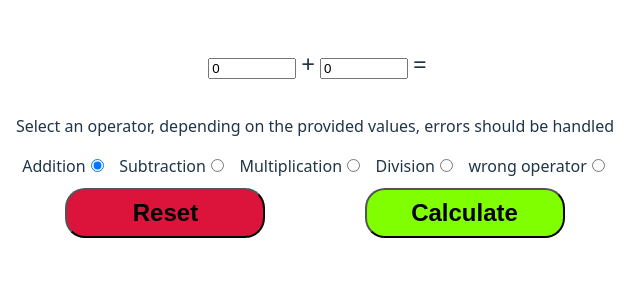
Test: CalculateForm Test › Multiplications › with negative numbers › both inputs are negative, output should be positive
The image size is (630, 295).
Click the radio button with id "multiplication" at (354, 166), box [347,159,360,172]
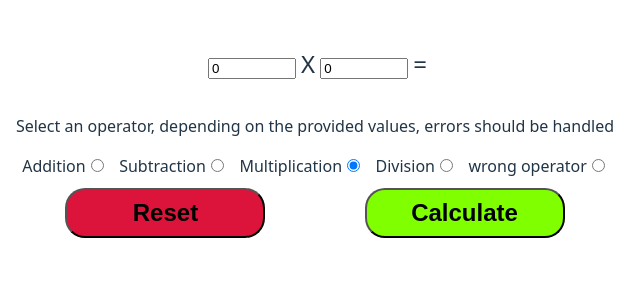
Replace the text in the number field with id "input1" with "-5" at (252, 68), box [208,58,296,79]
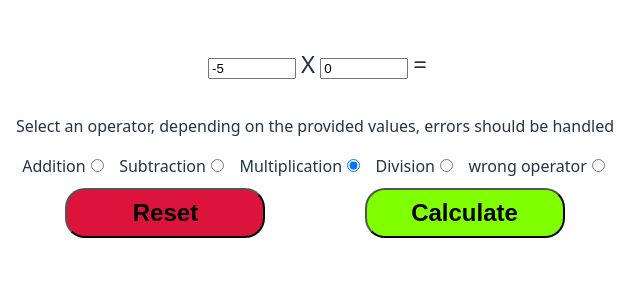
Replace the text in the number field with id "input2" with "-5" at (364, 68), box [320,58,408,79]
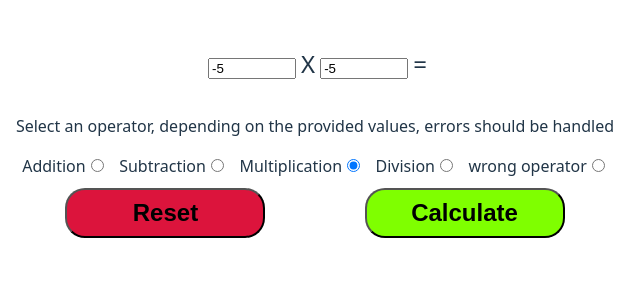
Click the button "Calculate" at (464, 213), box [364,188,564,238]
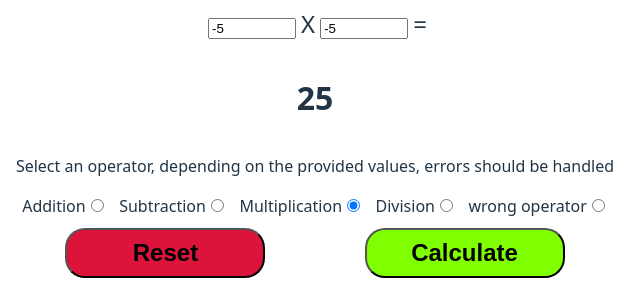
Expected: the text with id "result" reads "25", [297,76,333,119]
